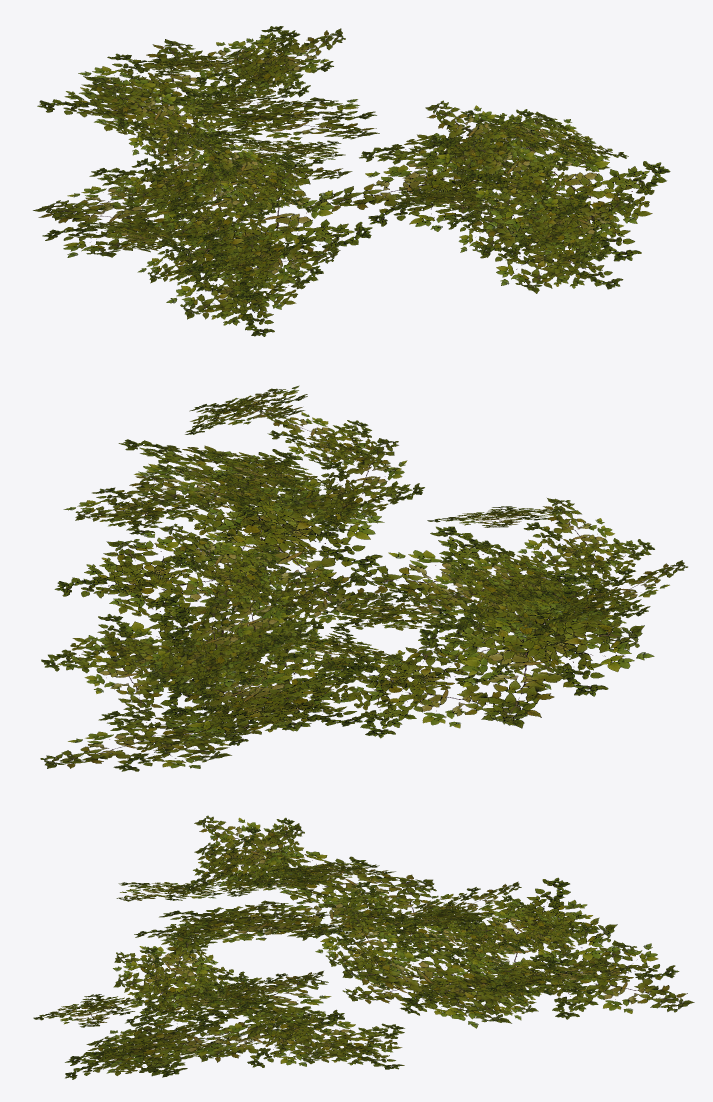
The model's file is VistaTreeTopC.FBX.
3 views of the same model, one above another, from view 1: azimuth 30°, elevation 25°; view 2: azimuth 150°, elevation 25°; view 3: azimuth 270°, elevation 25° (orthographic). The views are drawn at different scales.
Parts seen in each view (by area): view 1: VistaTreeTopC; view 2: VistaTreeTopC; view 3: VistaTreeTopC.
Boxes of the visible parts, x1=… form: VistaTreeTopC: x1=33, y1=26, x2=670, y2=336; VistaTreeTopC: x1=40, y1=385, x2=687, y2=771; VistaTreeTopC: x1=33, y1=815, x2=694, y2=1079.
Size of the model in its own units: 41.11 by 8.8 by 44.09.
